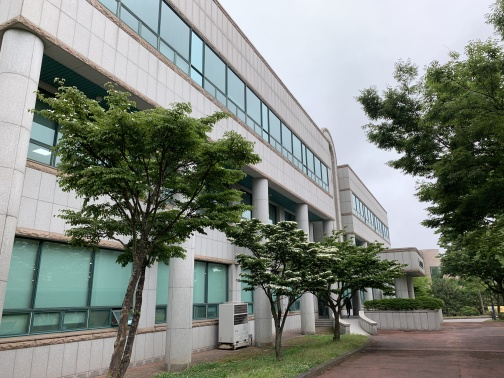Joint Experimental Labs: (423, 249, 444, 281)
Second Library: (17, 11, 338, 358), (327, 153, 423, 353)
